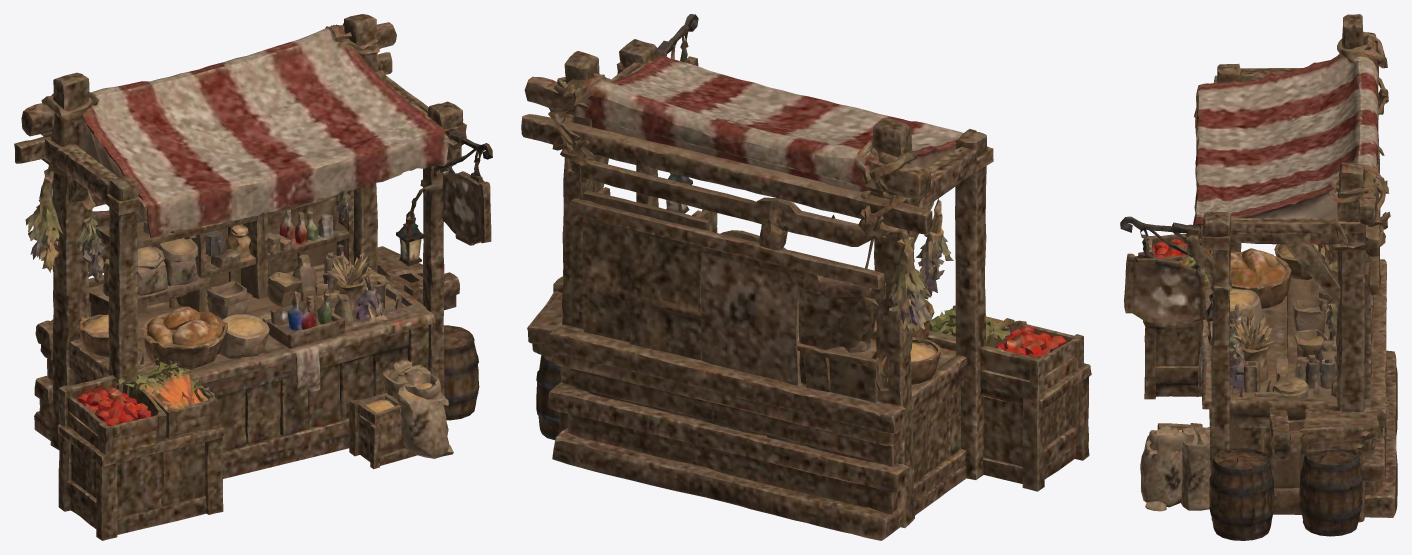
File: stall_lite.glb
3 renders of one model, left to right at view 1: azimuth 30°, elevation 25°; view 2: azimuth 150°, elevation 25°; view 3: azimuth 270°, elevation 25°, orthographic. The views are drawn at different scales.
Parts seen in each view (by area): view 1: geometry_0; view 2: geometry_0; view 3: geometry_0.
Boxes of the visible parts, left/top/right/bottom form: geometry_0: left=14, top=14, right=492, bottom=540; geometry_0: left=521, top=14, right=1091, bottom=540; geometry_0: left=1120, top=14, right=1397, bottom=540.
Size of the model in its own units: 1.87 by 1.55 by 1.08.
Materials: 1 (1 with a texture image).
